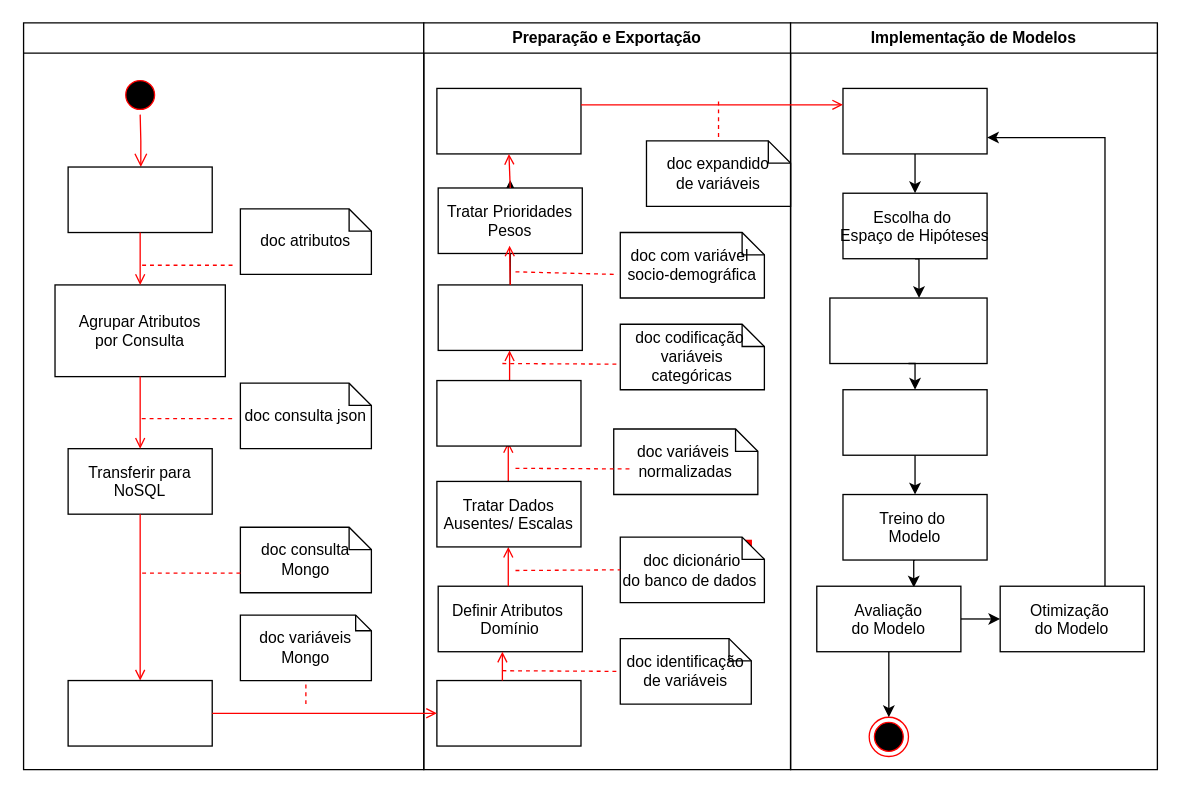
Some shapes in this 1180 by 793 pixel diagram are drawn without their labels. Each missing label, with the box of its shape:
Coleta: (22, 22, 424, 770)
Definir Atributos Semântica: (436, 679, 581, 746)
Dividir Dados Treino / Teste: (842, 87, 987, 154)
Escolha do Algoritmo de Aprendizagem: (829, 297, 987, 364)
Gerar Matrizes Esparsas: (436, 87, 581, 154)
Identificar Tabela SAM: (67, 166, 212, 233)
Implementação do Modelo: (842, 388, 987, 455)
Selecionar Variáveis Estruturadas: (67, 679, 212, 746)
Tratar Variáveis Categóricas de Protocolo: (436, 379, 581, 446)
Tratar Variáveis Geolocalizadas: (437, 284, 582, 350)
